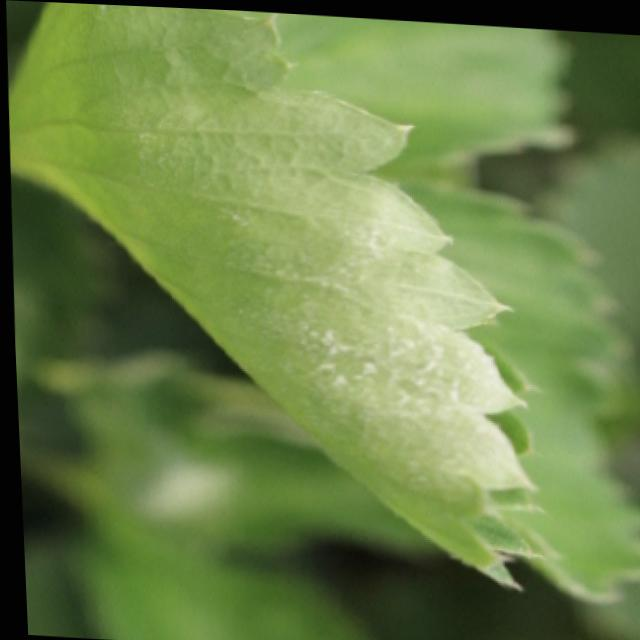Powdery Mildew Leaf: (7, 2, 554, 586)
